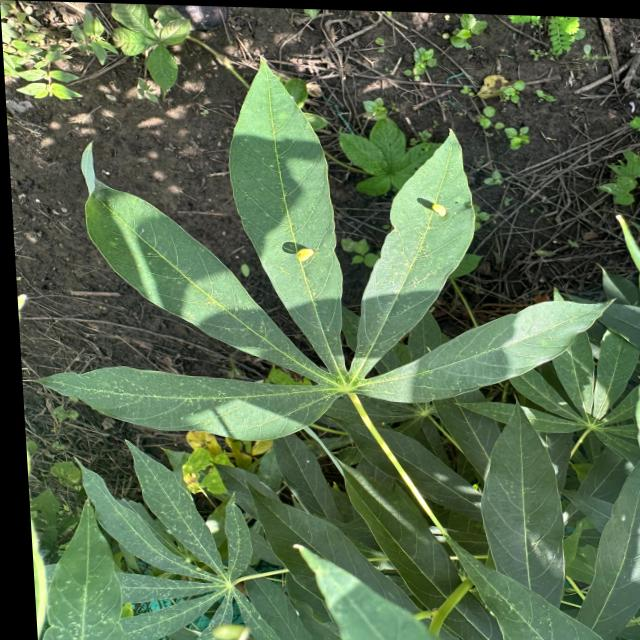Maleza: (0, 0, 200, 93)
Mosca: (285, 239, 321, 269), (423, 194, 450, 224), (613, 506, 631, 523), (552, 397, 570, 411)
